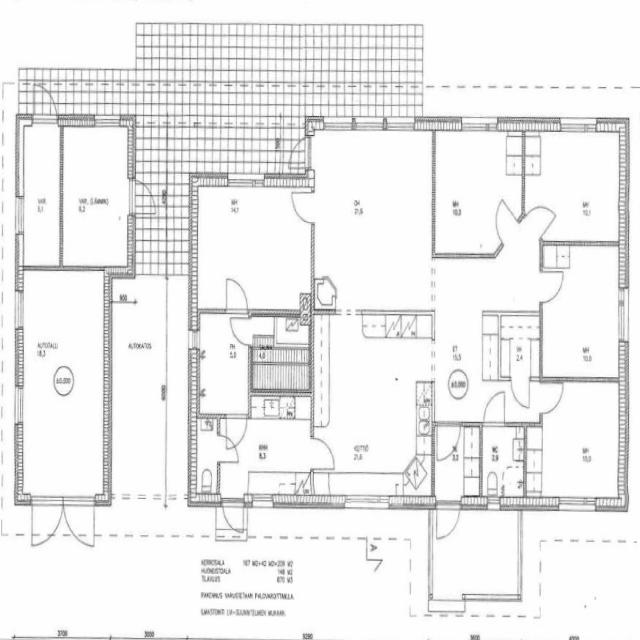door: (63, 497, 94, 551), (32, 497, 63, 551), (487, 199, 519, 245), (524, 193, 555, 240), (436, 496, 461, 543), (33, 80, 57, 123), (129, 180, 159, 213), (222, 496, 244, 540), (284, 136, 314, 168), (437, 422, 461, 461), (310, 438, 336, 469), (539, 271, 564, 302), (539, 383, 564, 414), (226, 278, 247, 314), (290, 192, 314, 223), (226, 414, 247, 448), (484, 392, 504, 426), (511, 377, 529, 409), (230, 318, 252, 344), (217, 435, 238, 462)
